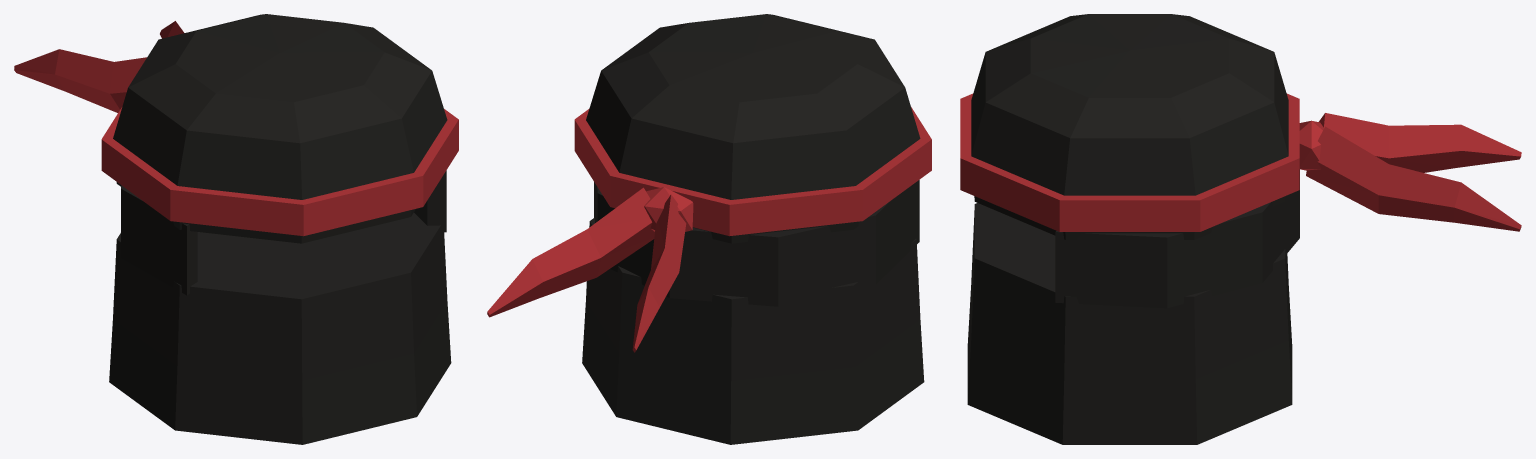
The model's file is Hat_Beanie.fbx.
The picture shows the model from 3 angles, left to right: view 1: azimuth 30°, elevation 25°; view 2: azimuth 150°, elevation 25°; view 3: azimuth 270°, elevation 25°; orthographic projection.
Parts seen in each view (by area): view 1: Cowl, Headband; view 2: Cowl, Headband; view 3: Cowl, Headband.
Part boxes in pixels (<box>): Cowl: <box>109,14,451,444</box>; Headband: <box>14,21,458,236</box>; Cowl: <box>582,14,924,444</box>; Headband: <box>487,107,931,352</box>; Cowl: <box>967,14,1299,444</box>; Headband: <box>960,93,1521,231</box>.
Bounding box in the file's own units: 1.74 × 1.84 × 2.87.
